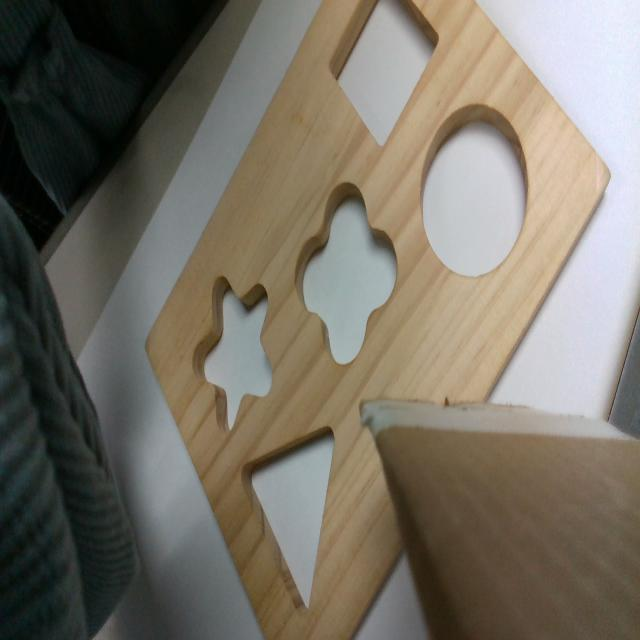circle: (423, 106, 529, 277)
flower: (297, 183, 394, 364)
square: (327, 4, 441, 151)
star: (190, 275, 273, 432)
triangle: (237, 423, 336, 618)
